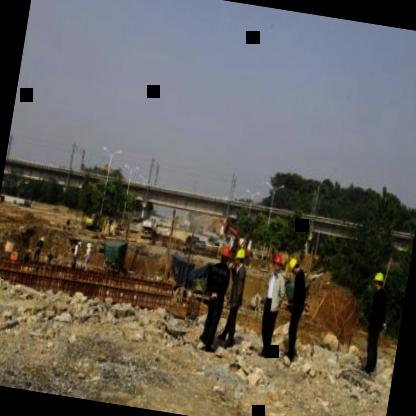helmet: (368, 266, 386, 296), (216, 240, 234, 268), (268, 249, 284, 276), (232, 244, 247, 268), (286, 256, 301, 276)
